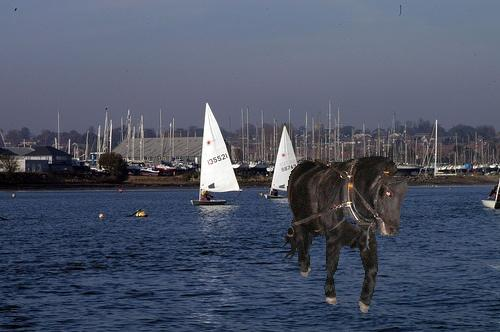tampered: (282, 157, 408, 313)
